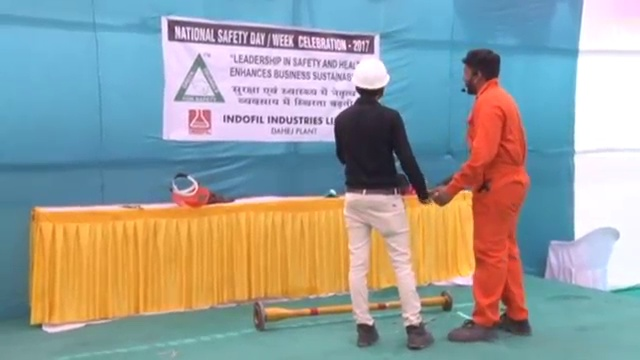helmet: (351, 57, 391, 90)
helmet_off: (461, 47, 504, 96)
helmet_on: (348, 56, 389, 103)
person: (432, 46, 544, 338), (328, 54, 438, 349)
